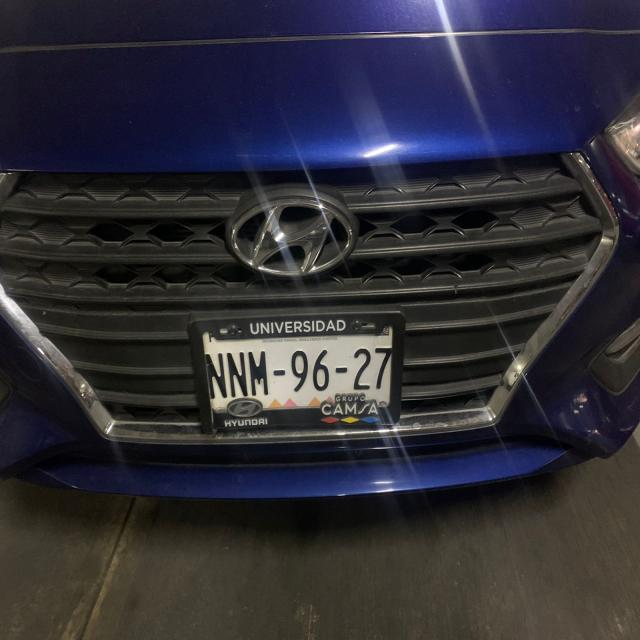placa: (201, 340, 395, 399)
